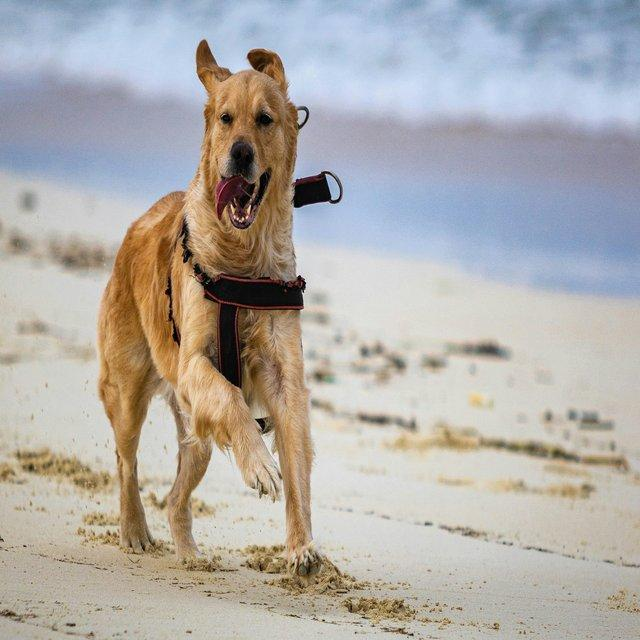retriever: (95, 37, 325, 579)
